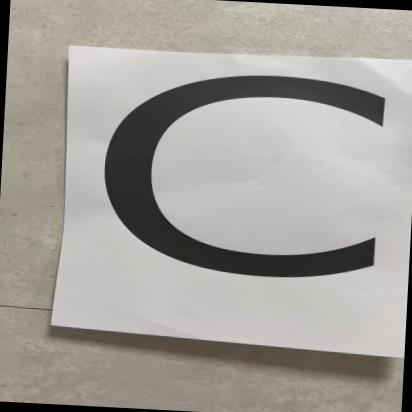seat: (46, 34, 412, 366)
